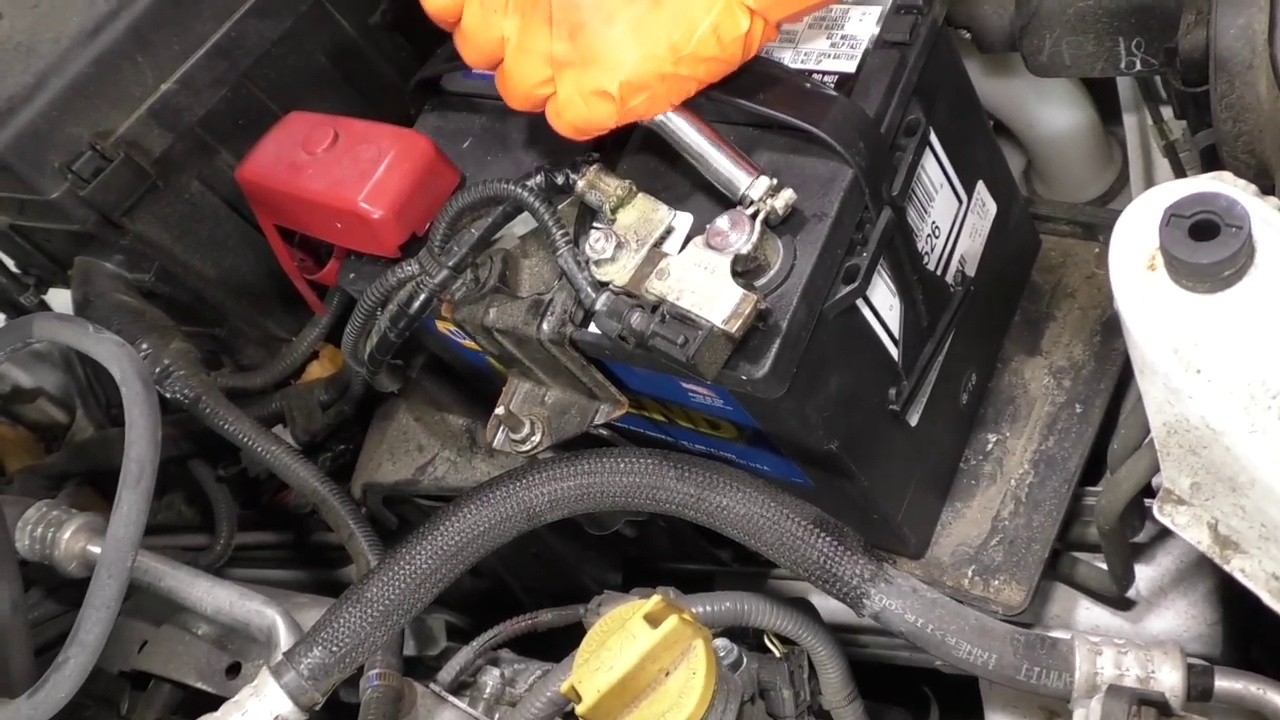battery: (310, 12, 875, 393)
neg_connected: (634, 195, 804, 345)
pos_connected: (248, 102, 474, 340)
